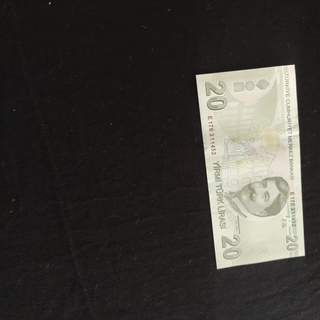20TLBack: (195, 64, 306, 270)
